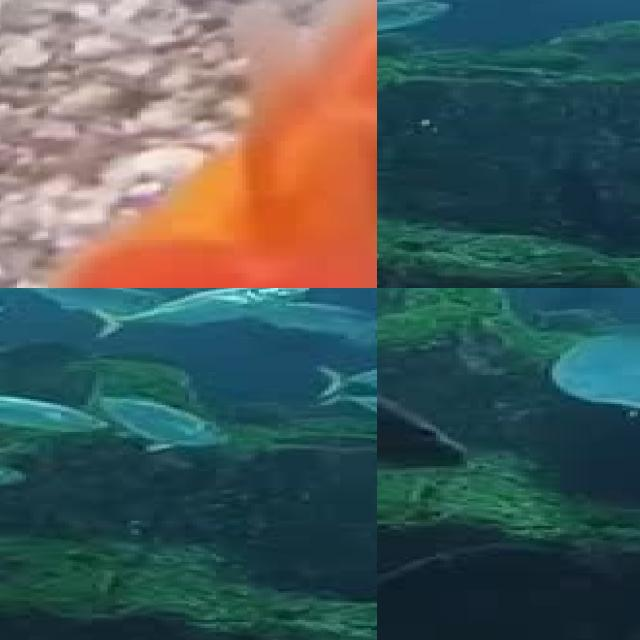fish: (0, 0, 377, 288)
